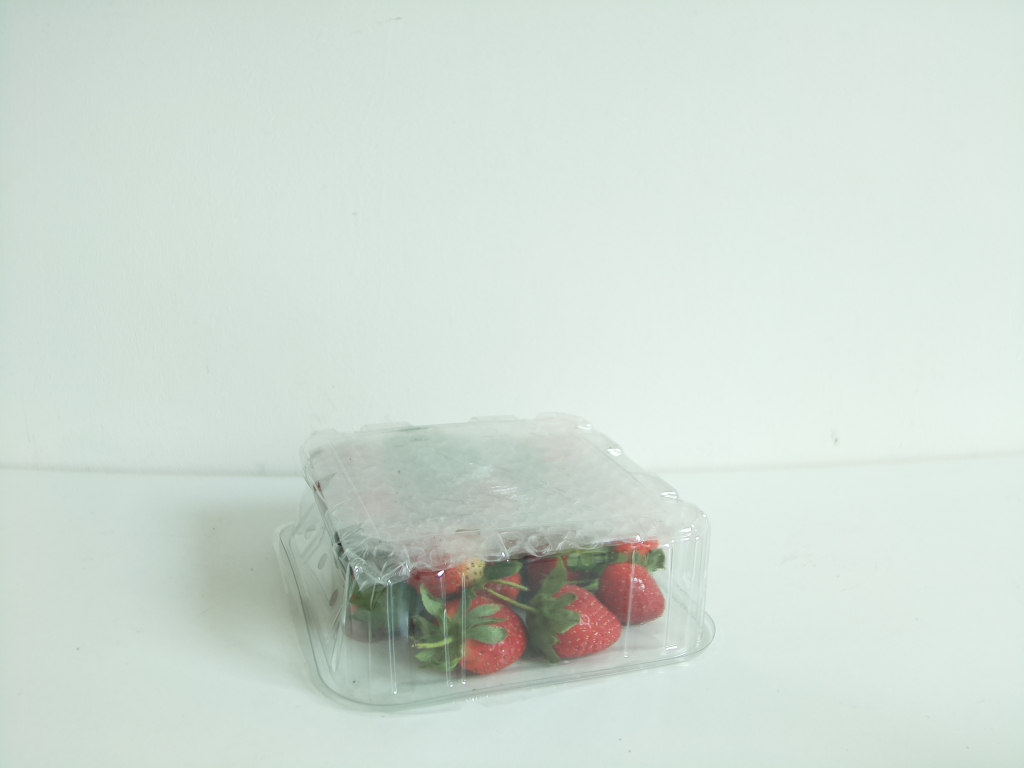soft-fruit: (266, 410, 722, 708)
